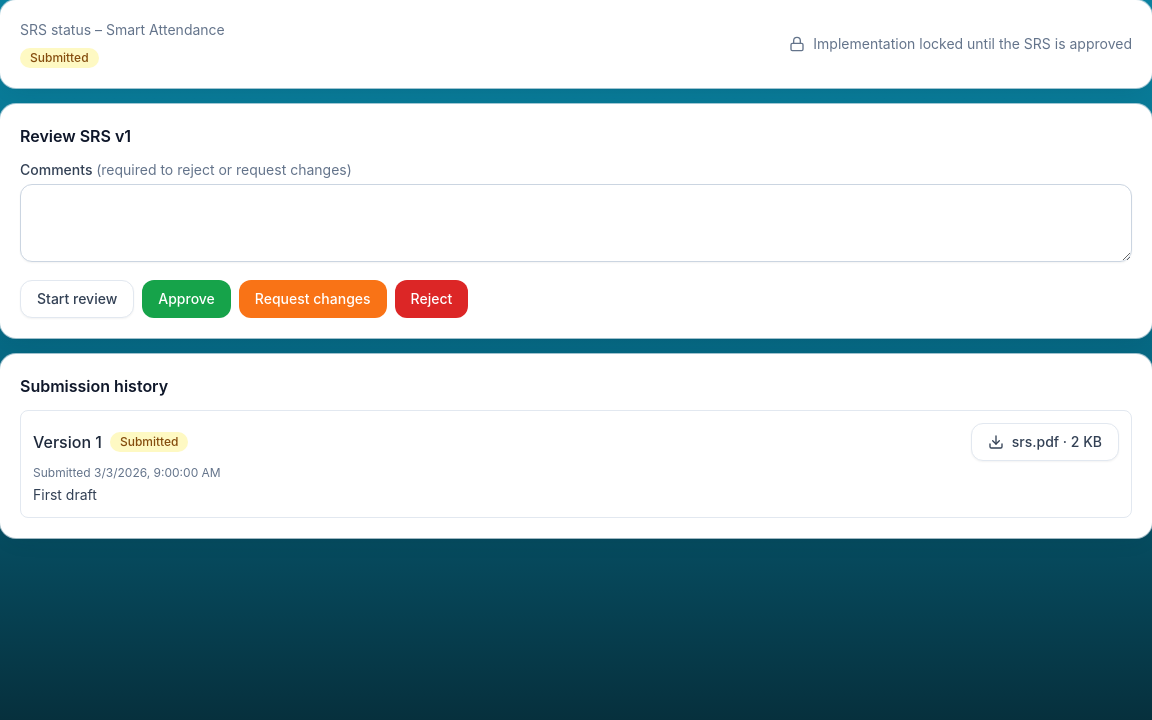
SRS panel – mentor review › shows the server error when the review is refused
Click the button "Approve".
click(187, 299)  # box [142,280,231,318]
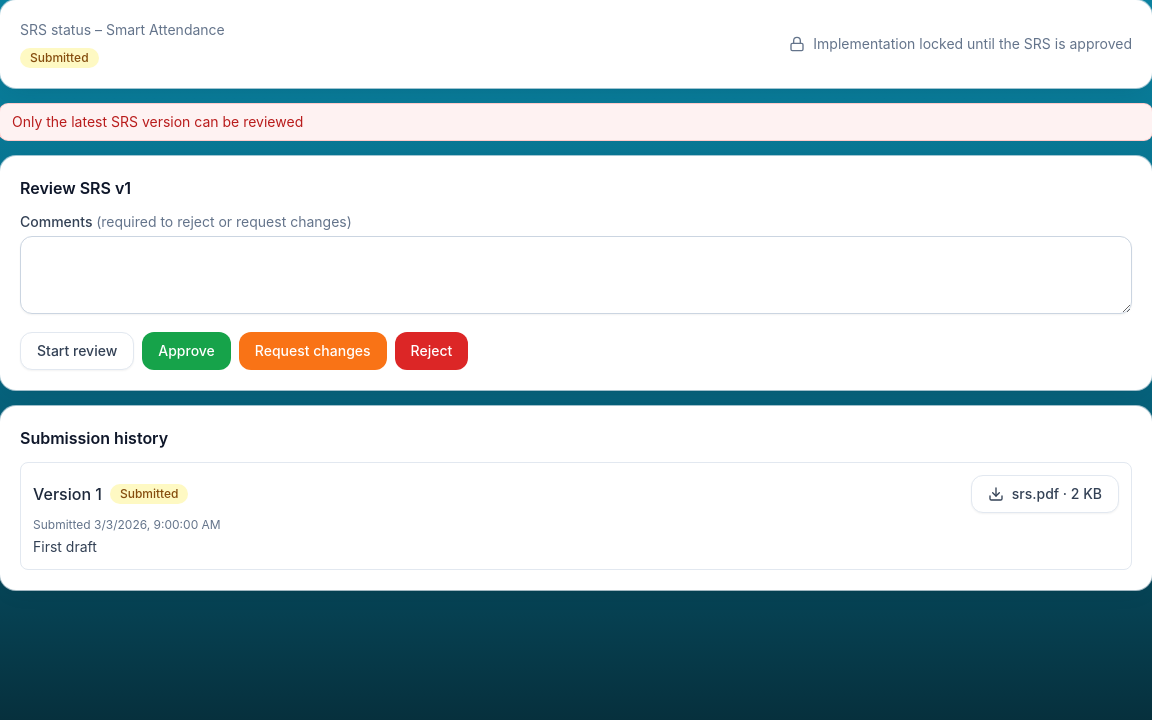
Expected: the message shows "latest SRS version", [12,113,303,130]
